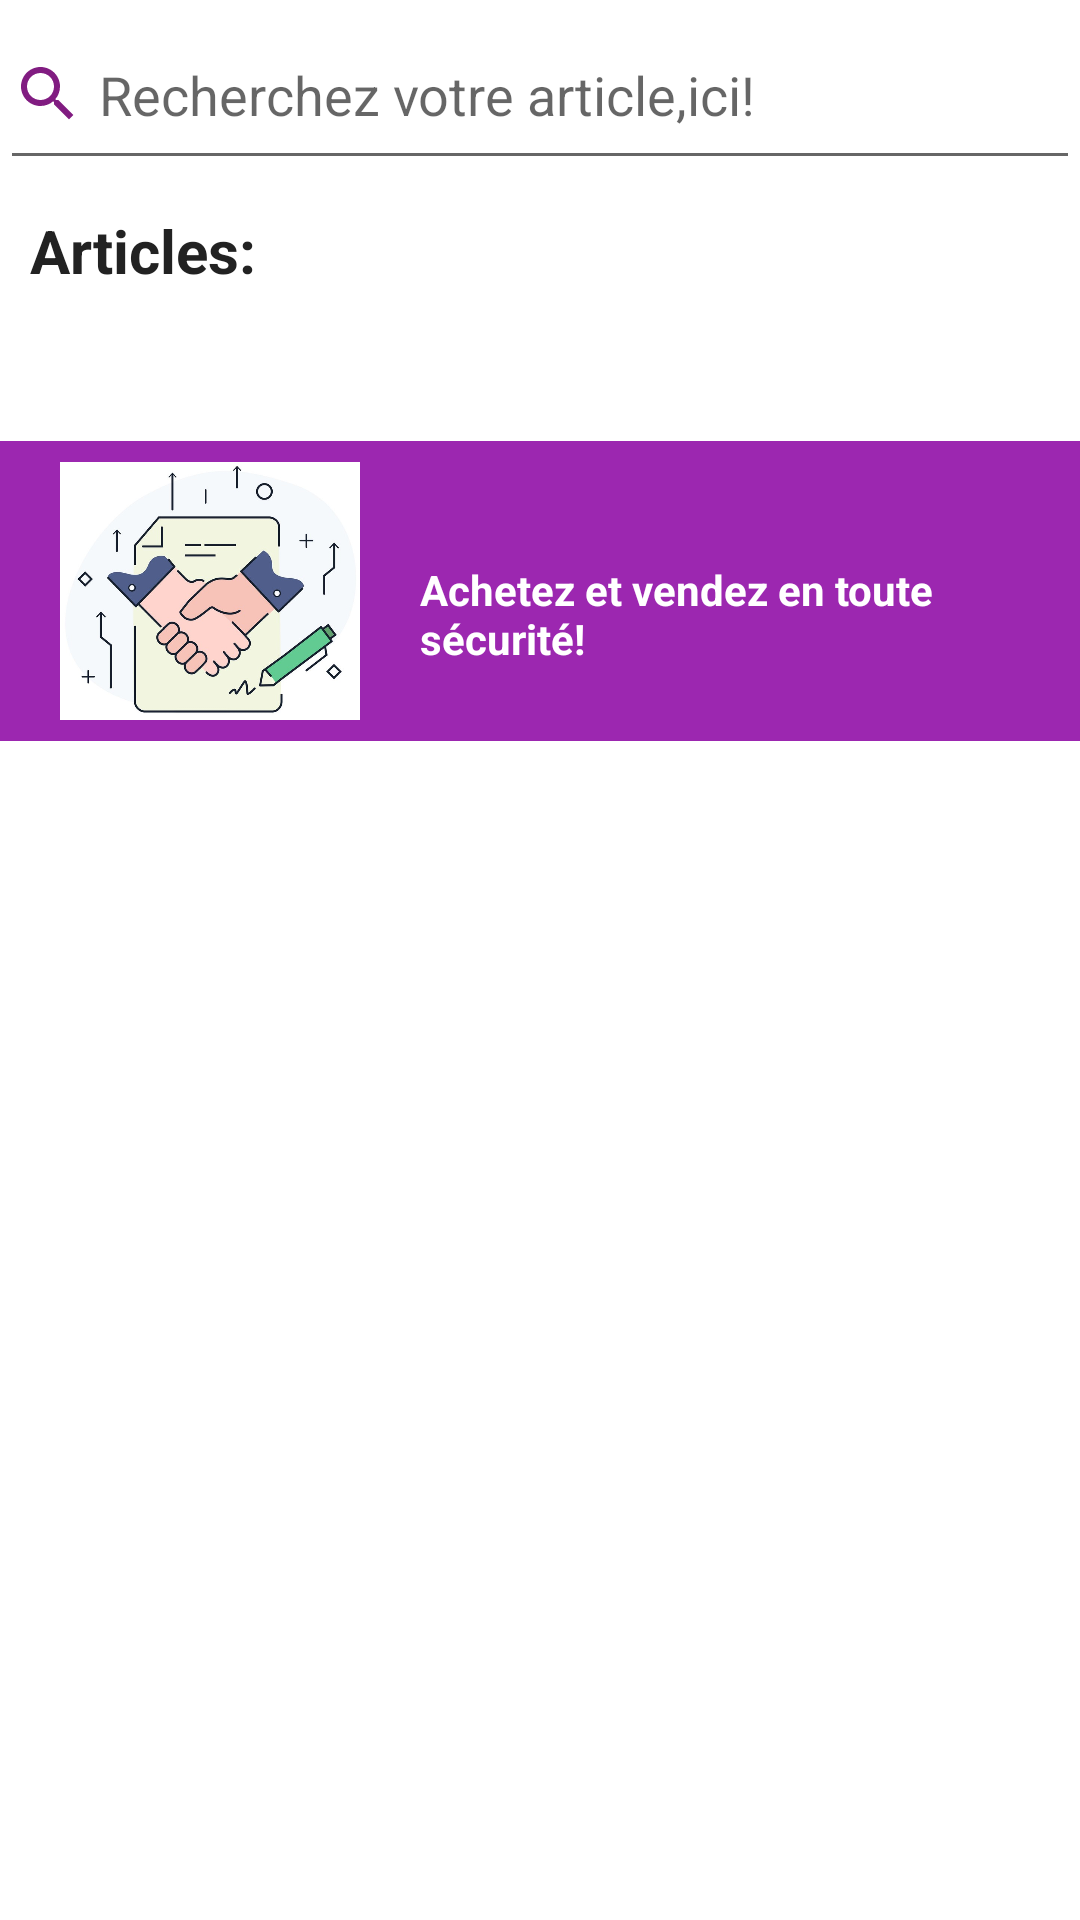

Named icons in this screenshot (1080 x 1920) and their centers, (x=x, y=y):
interaction: (x=210, y=591)
